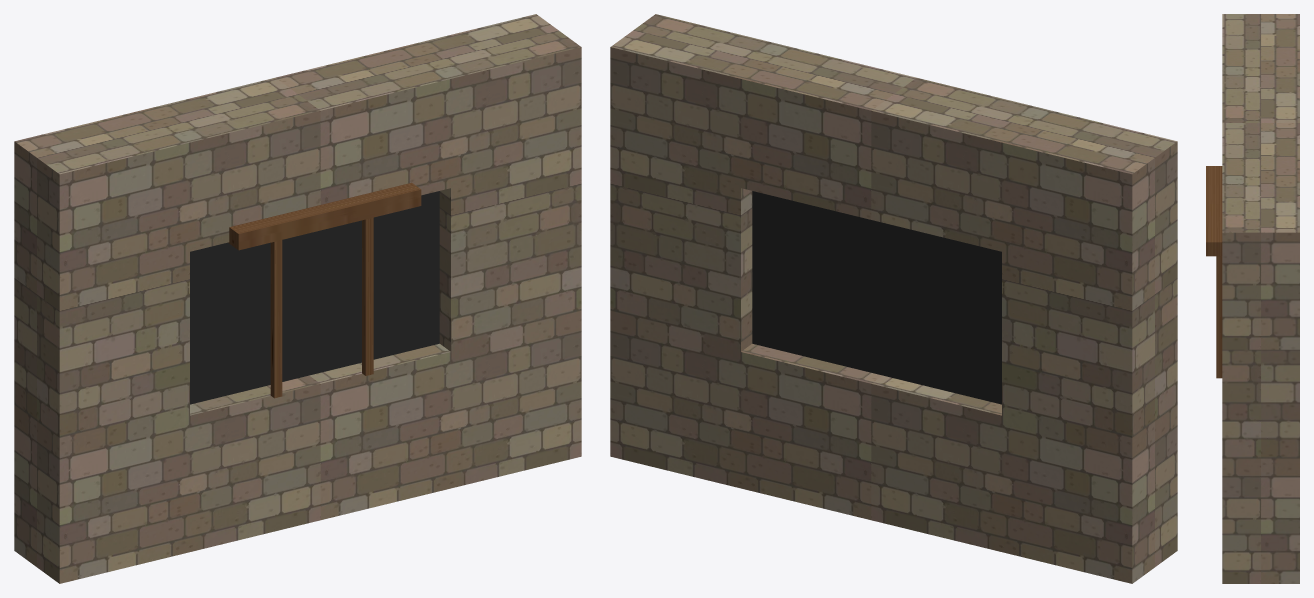
File: wall_window_4m.glb
The picture shows the model from 3 angles, left to right: view 1: azimuth 30°, elevation 25°; view 2: azimuth 150°, elevation 25°; view 3: azimuth 270°, elevation 25°; orthographic projection. The views are drawn at different scales.
Parts seen in each view (by area): view 1: Wall_Window_4m; view 2: Wall_Window_4m; view 3: Wall_Window_4m.
Part boxes in pixels (<box>): Wall_Window_4m: <box>14,14,581,583</box>; Wall_Window_4m: <box>610,14,1177,583</box>; Wall_Window_4m: <box>1206,14,1299,583</box>.
Bounding box in the file's own units: 4 × 3 × 0.7251.
3 materials, 2 textured.
